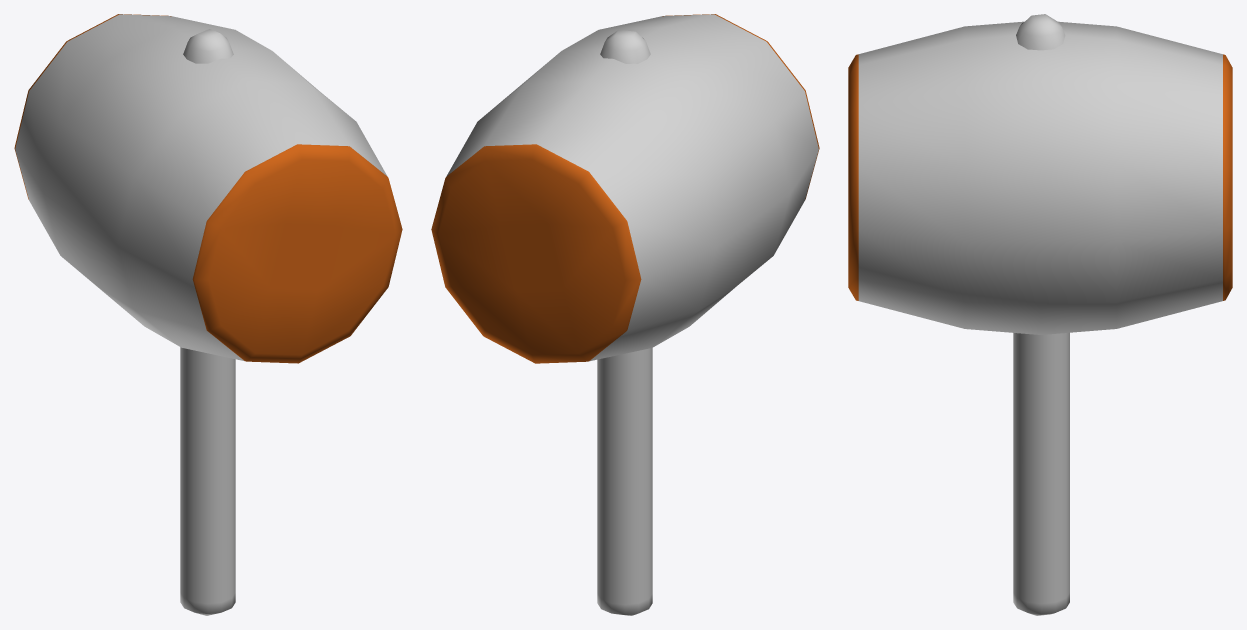
Rendered from hamcol.obj.
3 renders of one model, left to right at view 1: azimuth 30°, elevation 25°; view 2: azimuth 150°, elevation 25°; view 3: azimuth 270°, elevation 25°, orthographic. The views are drawn at different scales.
Parts seen in each view (by area): view 1: Cylinder.000_Cylinder.000; view 2: Cylinder.000_Cylinder.000; view 3: Cylinder.000_Cylinder.000.
Boxes of the visible parts, x1=… form: Cylinder.000_Cylinder.000: x1=14, y1=14, x2=402, y2=615; Cylinder.000_Cylinder.000: x1=431, y1=14, x2=819, y2=615; Cylinder.000_Cylinder.000: x1=848, y1=14, x2=1232, y2=615.
Size of the model in its own units: 164 by 354 by 208.
